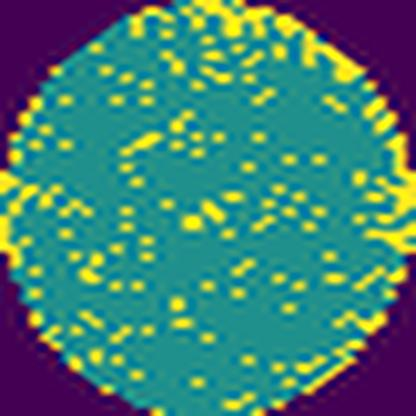Edge-Loc: (126, 0, 369, 83), (365, 160, 415, 266)
